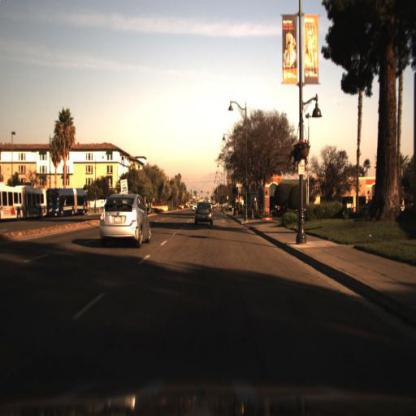car: (99, 194, 154, 250), (193, 196, 218, 228)
pedestrian: (253, 195, 260, 223)
truck: (1, 183, 51, 229), (1, 185, 52, 227), (44, 185, 91, 222)
